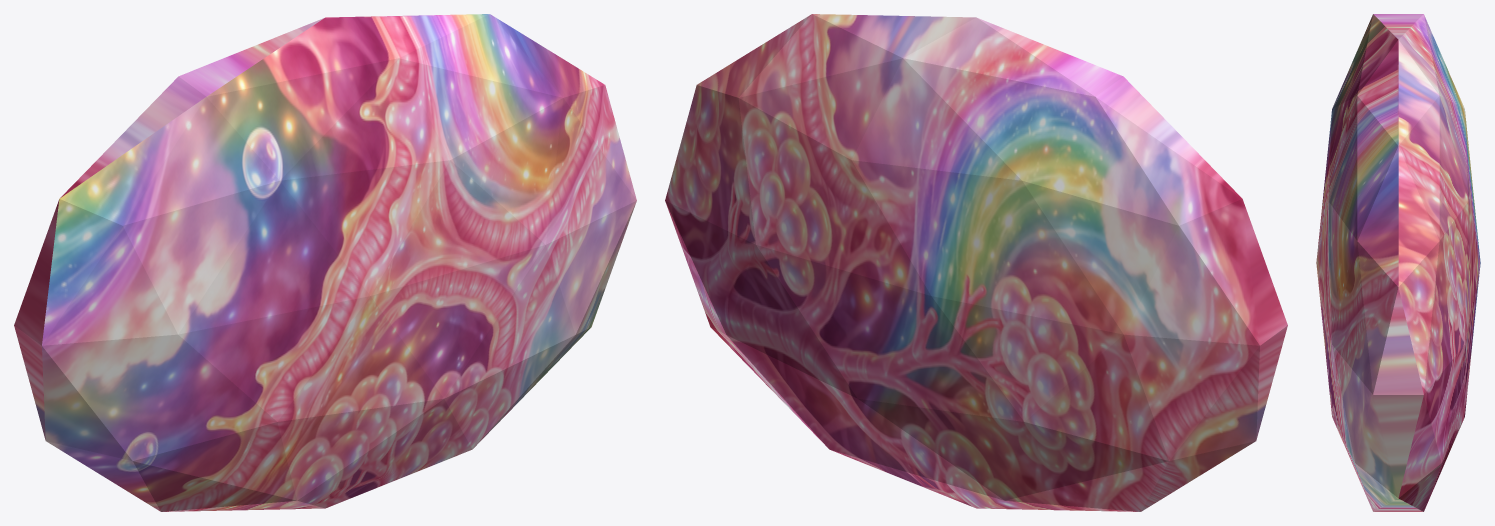
The model's file is Prop_CloudWisp.fbx.
The picture shows the model from 3 angles, left to right: view 1: azimuth 30°, elevation 25°; view 2: azimuth 150°, elevation 25°; view 3: azimuth 270°, elevation 25°; orthographic projection. The views are drawn at different scales.
Parts seen in each view (by area): view 1: Prop_CloudWisp; view 2: Prop_CloudWisp; view 3: Prop_CloudWisp.
Part boxes in pixels (box(x1,y1,x2,y2)): Prop_CloudWisp: box(14, 14, 636, 511); Prop_CloudWisp: box(665, 14, 1287, 511); Prop_CloudWisp: box(1316, 14, 1480, 511).
Bounding box in the file's own units: 3.8 × 3 × 1.
Materials: 1 (1 with a texture image).
